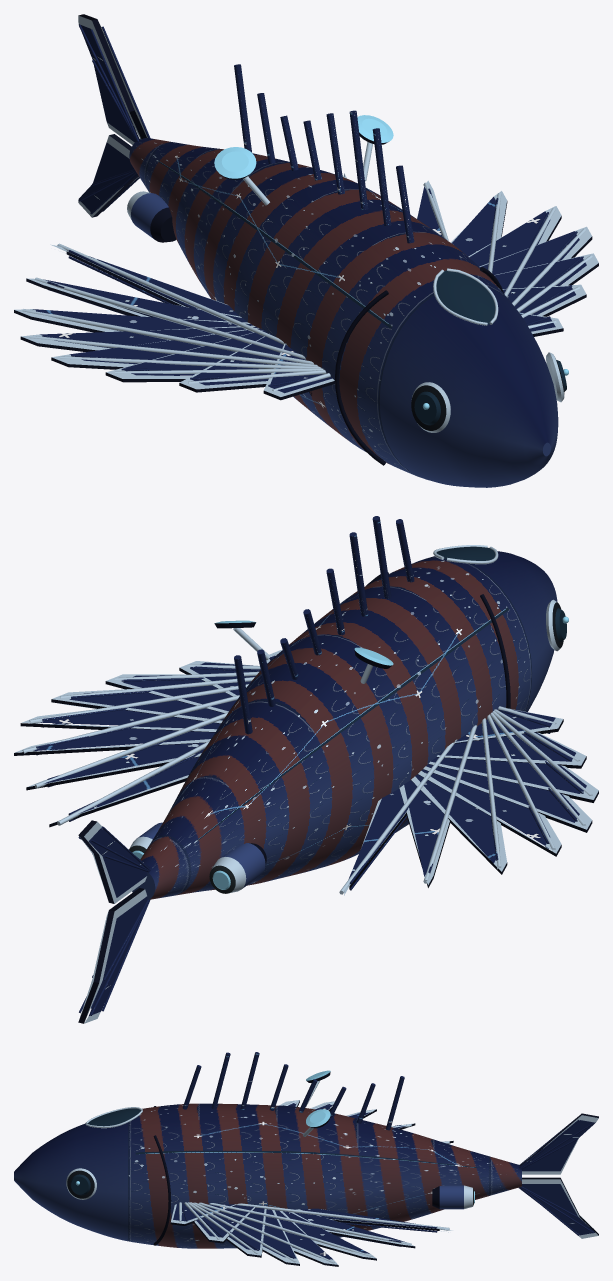
3 views of the same model, one above another, from view 1: azimuth 30°, elevation 25°; view 2: azimuth 150°, elevation 25°; view 3: azimuth 270°, elevation 25° (orthographic). The views are drawn at different scales.
Parts seen in each view (by area): view 1: lionfish_hull; view 2: lionfish_hull; view 3: lionfish_hull.
Part boxes in pixels (left/top/right/bottom): lionfish_hull: left=14, top=14, right=598, bottom=487; lionfish_hull: left=14, top=516, right=598, bottom=1023; lionfish_hull: left=14, top=1052, right=598, bottom=1266.
Size of the model in its own units: 25.23 by 13.71 by 38.
1 material, 1 textured.
